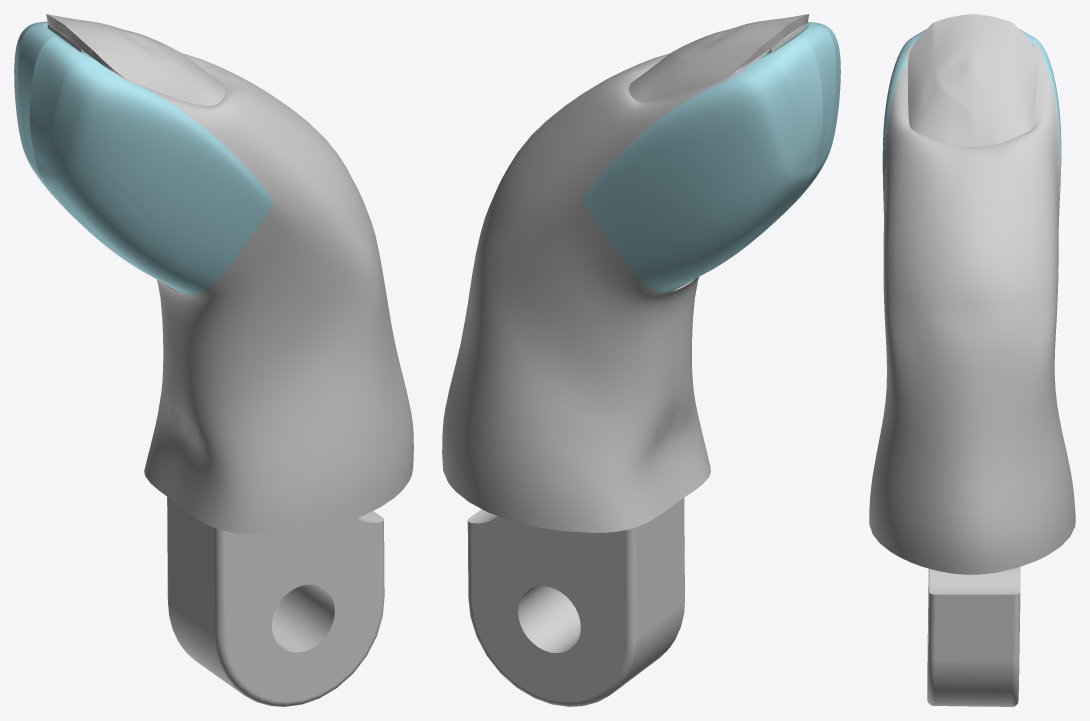
File: mnp-sensor.glb
The picture shows the model from 3 angles, left to right: view 1: azimuth 30°, elevation 25°; view 2: azimuth 150°, elevation 25°; view 3: azimuth 270°, elevation 25°; orthographic projection. The views are drawn at different scales.
Visible parts, largest first — view 1: Body1.002, Body3; view 2: Body1.002, Body3; view 3: Body1.002, Body3.
Part boxes in pixels (bbox=[...]): Body1.002: bbox=[44, 14, 413, 706]; Body3: bbox=[14, 21, 273, 295]; Body1.002: bbox=[442, 14, 808, 706]; Body3: bbox=[582, 22, 840, 292]; Body1.002: bbox=[869, 14, 1075, 706]; Body3: bbox=[882, 28, 1061, 214].
Bounding box in the file's own units: 0.0267 × 0.0489 × 0.0153.
